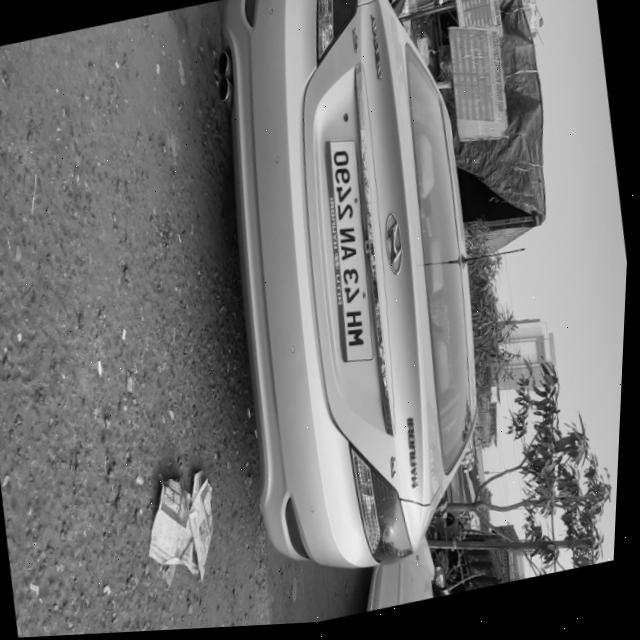car: (354, 303, 629, 614), (475, 525, 595, 595)
